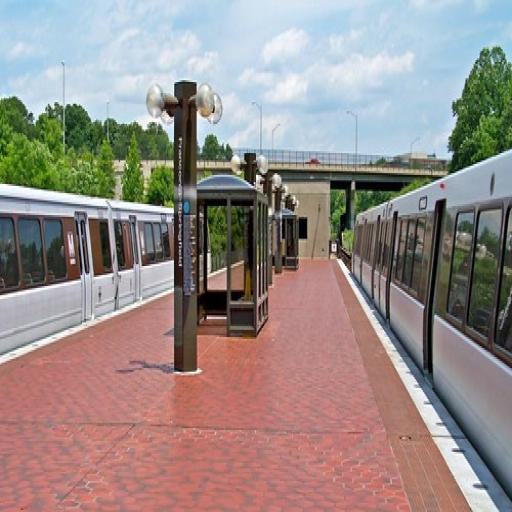platform_edge: (332, 268, 512, 512), (0, 305, 143, 375)
